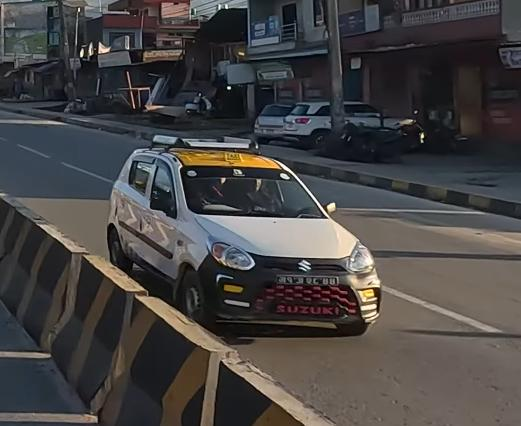car: (283, 98, 415, 147)
taxi: (110, 131, 389, 345)
